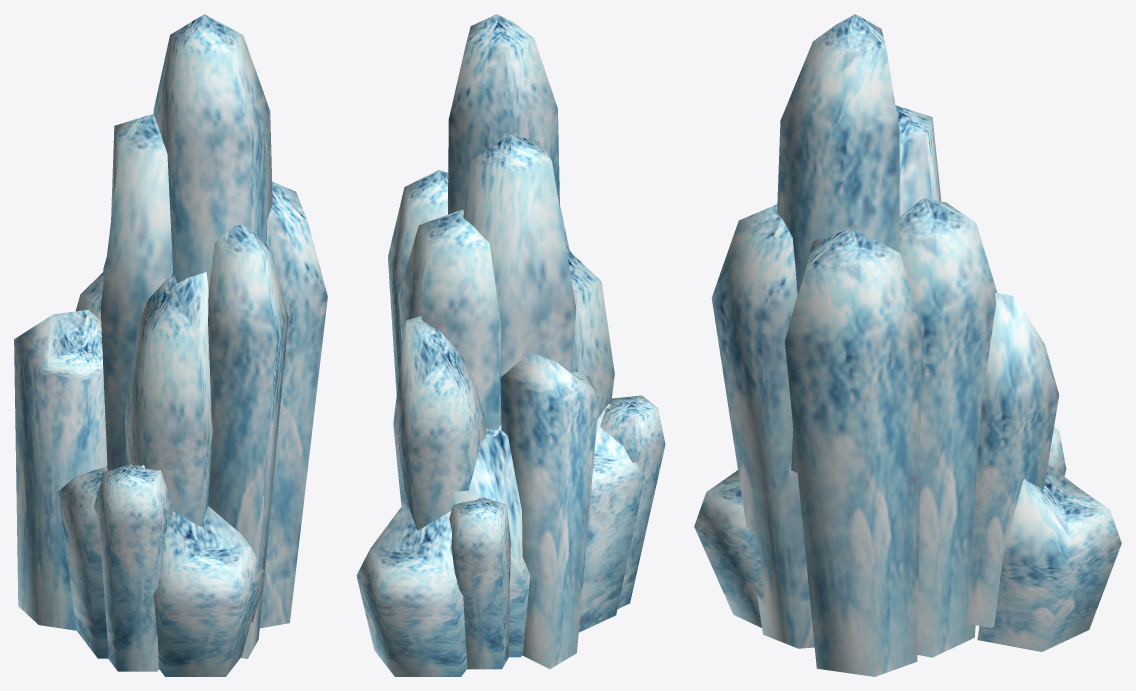
3 renders of one model, left to right at view 1: azimuth 30°, elevation 25°; view 2: azimuth 150°, elevation 25°; view 3: azimuth 270°, elevation 25°, orthographic. The views are drawn at different scales.
Visible parts, largest first — view 1: wj60; view 2: wj60; view 3: wj60.
Boxes of the visible parts, left/top/right/bottom form: wj60: left=14, top=14, right=327, bottom=676; wj60: left=356, top=14, right=665, bottom=676; wj60: left=694, top=14, right=1121, bottom=676.
Size of the model in its own units: 484 by 1142 by 712.
Materials: 1 (1 with a texture image).
